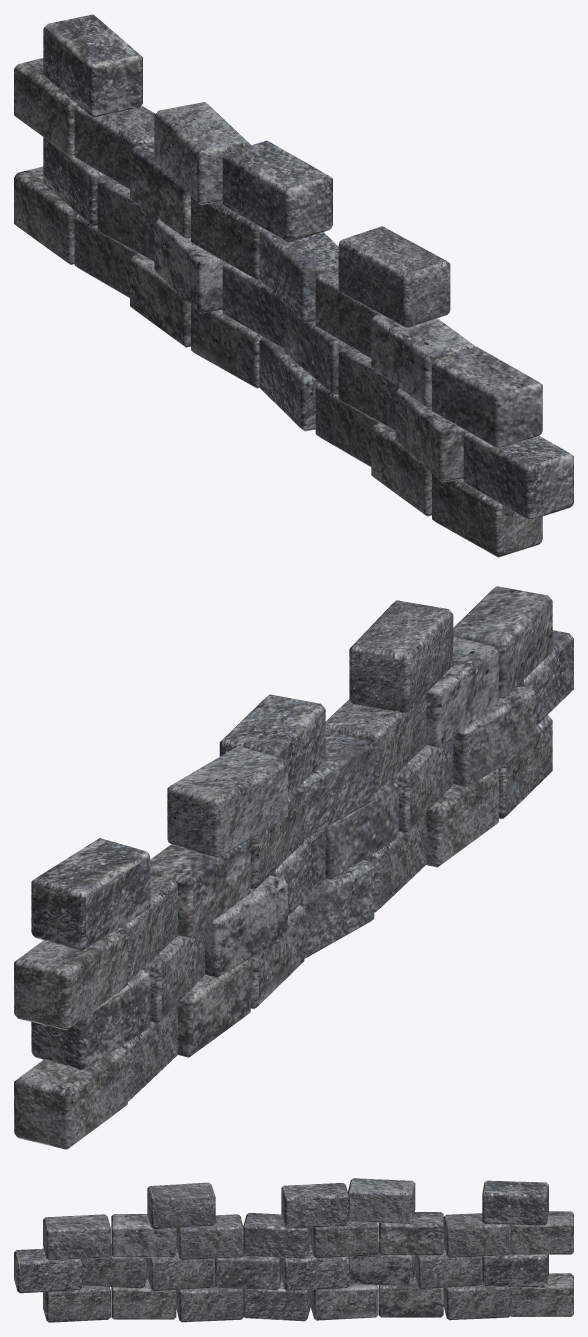
File: StoneWallA.fbx
3 views of the same model, one above another, from view 1: azimuth 30°, elevation 25°; view 2: azimuth 150°, elevation 25°; view 3: azimuth 270°, elevation 25° (orthographic). The views are drawn at different scales.
Parts seen in each view (by area): view 1: StoneWallA; view 2: StoneWallA; view 3: StoneWallA.
Boxes of the visible parts, bbox=[...] form: StoneWallA: bbox=[14, 14, 573, 557]; StoneWallA: bbox=[14, 586, 573, 1149]; StoneWallA: bbox=[14, 1178, 573, 1322].
Bounding box in the file's own units: 63.04 × 152 × 621.
